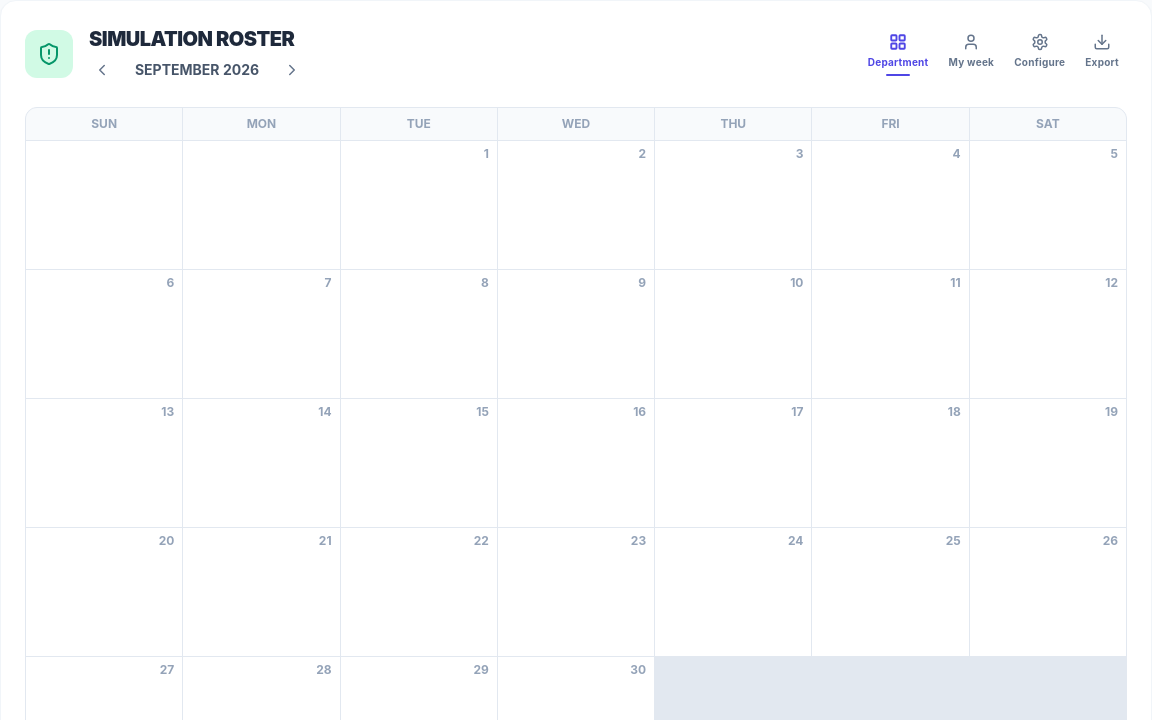
Scenario: the nine controls are on screen in the sandbox wizard › says both quota bounds are different KINDS of promise
Click the button "Configure": click(1040, 54) [1006,26,1073,82]
(page scrolled)
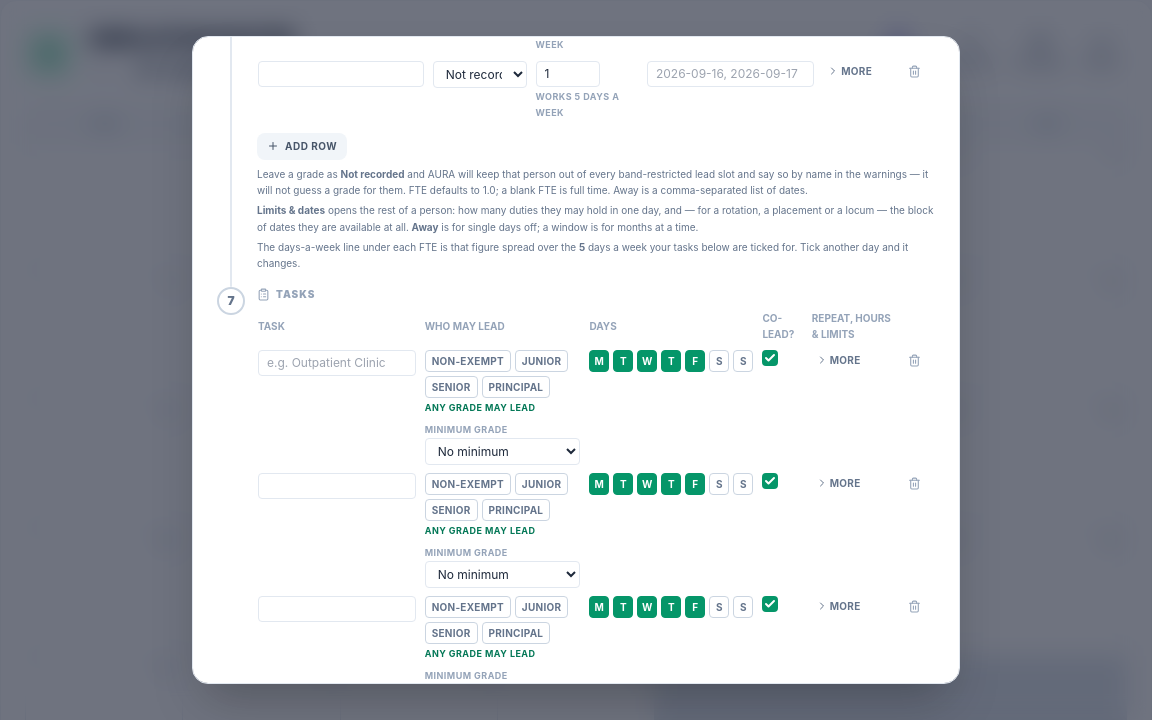
Click the 2nd button "More": click(838, 360) [812,350,864,370]
(page scrolled)
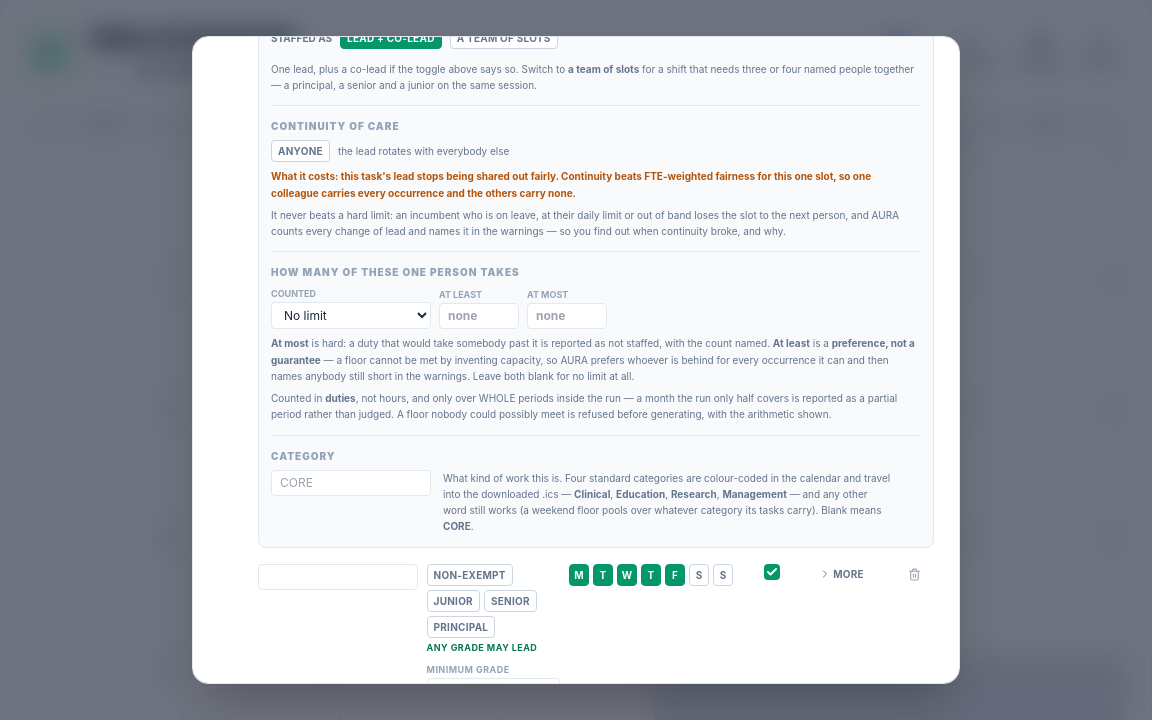
expect the text "preference, not a guarantee" is shown: met, box [271,337,915,366]
expect the text "is hard: a duty that would take" is shown: met, box [309,337,770,349]
